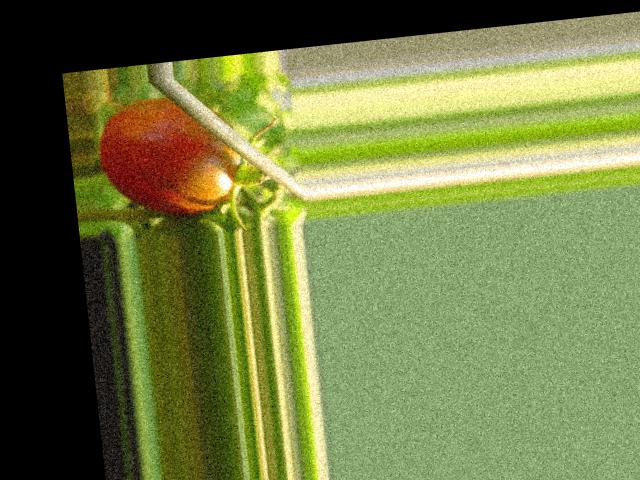tomato: (95, 91, 246, 221)
